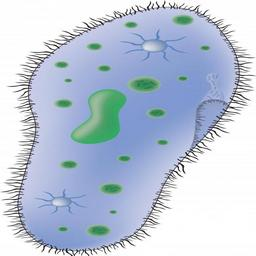Paramecium: (18, 7, 239, 249)
